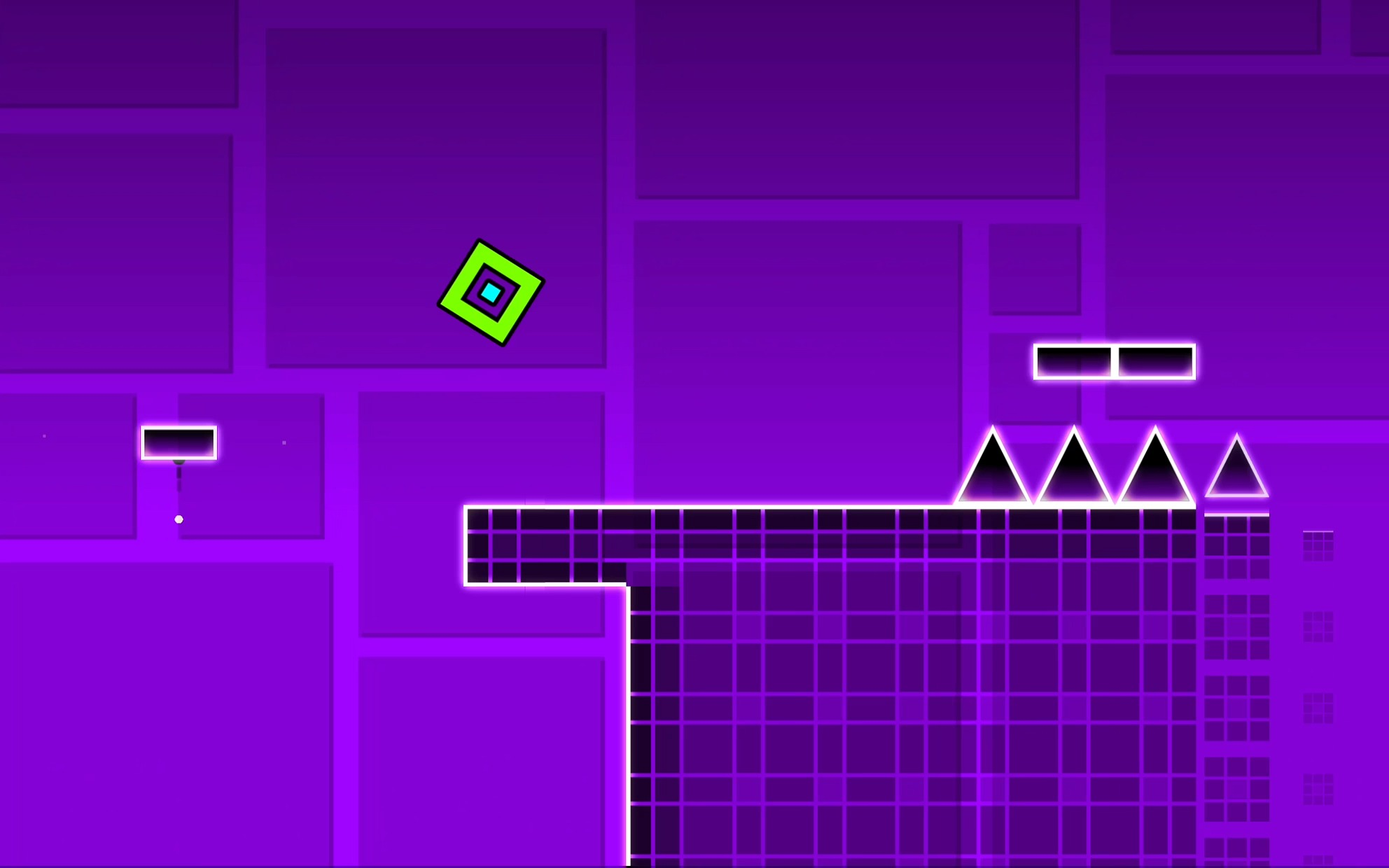Block2: (631, 508, 1275, 868), (463, 505, 627, 583)
Block3: (1032, 342, 1196, 379), (139, 424, 218, 460)
Player: (439, 240, 543, 345)
Spike: (1119, 428, 1192, 505), (1039, 428, 1110, 502), (956, 426, 1027, 500), (1206, 435, 1269, 497)
